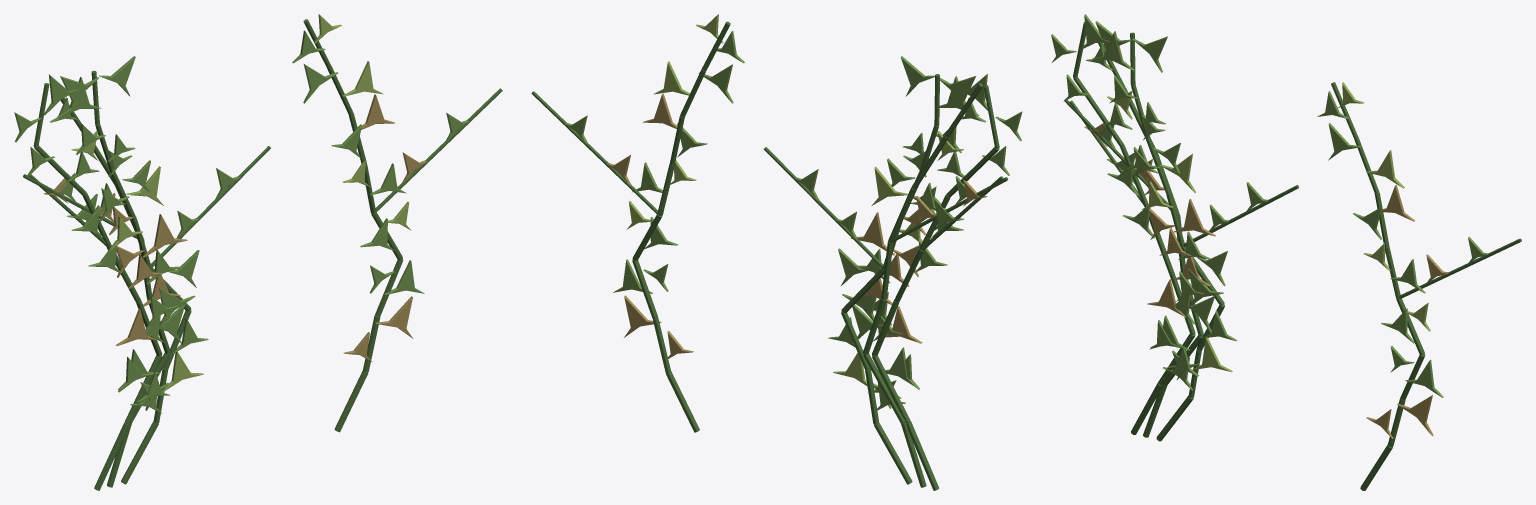
The model's file is runtime.glb.
The picture shows the model from 3 angles, left to right: view 1: azimuth 30°, elevation 25°; view 2: azimuth 150°, elevation 25°; view 3: azimuth 330°, elevation 25°; orthographic projection. The views are drawn at different scales.
Visible parts, largest first — view 1: falkenwacht-wall-ivy-v10_nocol; view 2: falkenwacht-wall-ivy-v10_nocol; view 3: falkenwacht-wall-ivy-v10_nocol.
Boxes of the visible parts, x1,y1,x2,y2 form: falkenwacht-wall-ivy-v10_nocol: (14, 14, 502, 490); falkenwacht-wall-ivy-v10_nocol: (531, 14, 1022, 490); falkenwacht-wall-ivy-v10_nocol: (1051, 14, 1521, 490).
Bounding box in the file's own units: 3.93 × 3.29 × 0.0816.
